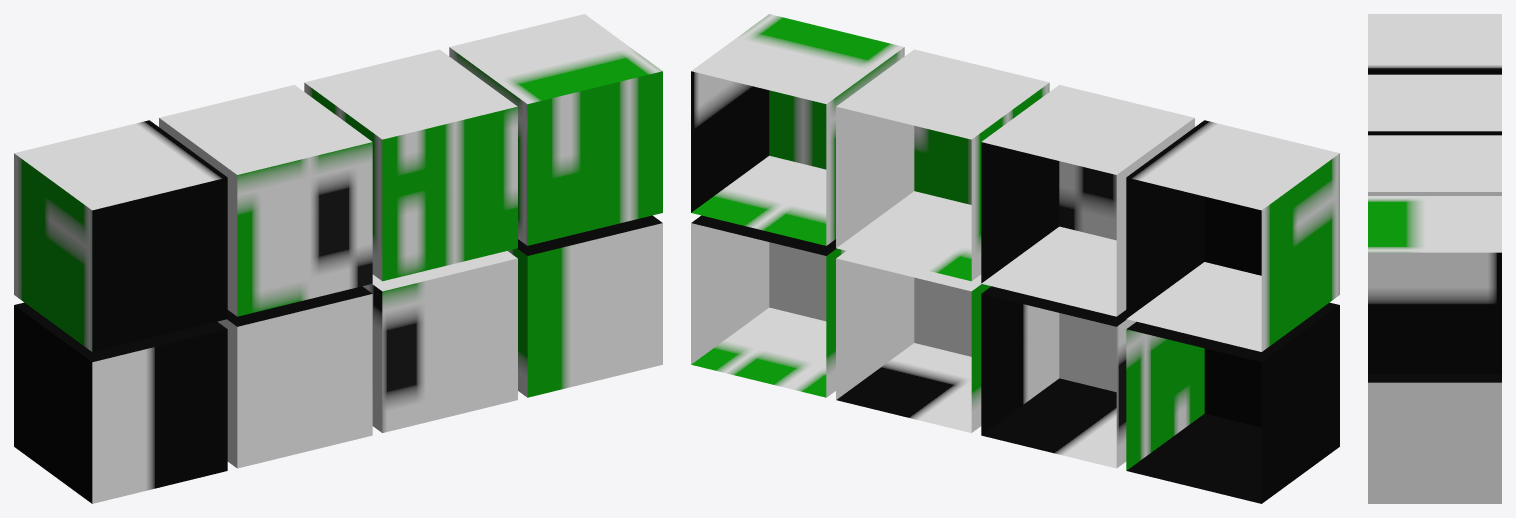
The model's file is cubogol 1.fbx.
The picture shows the model from 3 angles, left to right: view 1: azimuth 30°, elevation 25°; view 2: azimuth 150°, elevation 25°; view 3: azimuth 270°, elevation 25°; orthographic projection. The views are drawn at different scales.
Visible parts, largest first — view 1: Matrix_33; view 2: Matrix_33; view 3: Matrix_33.
Boxes of the visible parts, <box> form: Matrix_33: <box>14,14,662,503</box>; Matrix_33: <box>691,14,1339,503</box>; Matrix_33: <box>1368,14,1501,503</box>.
Bounding box in the file's own units: 59 × 29 × 14.
